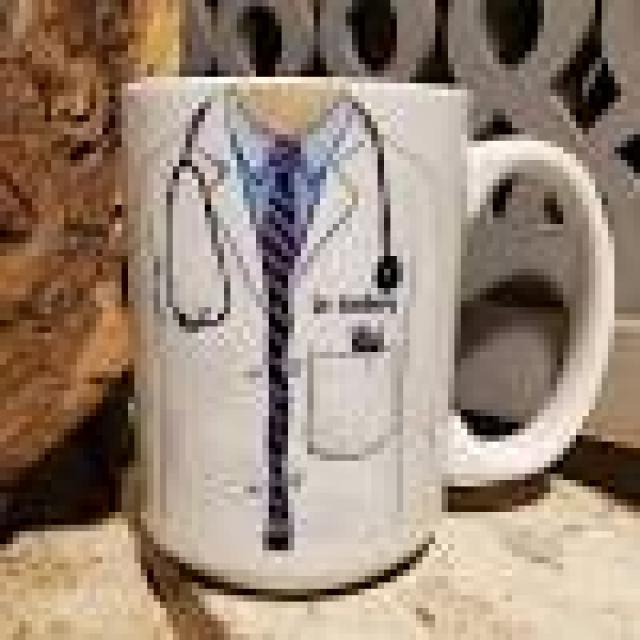taza: (109, 71, 620, 607)
